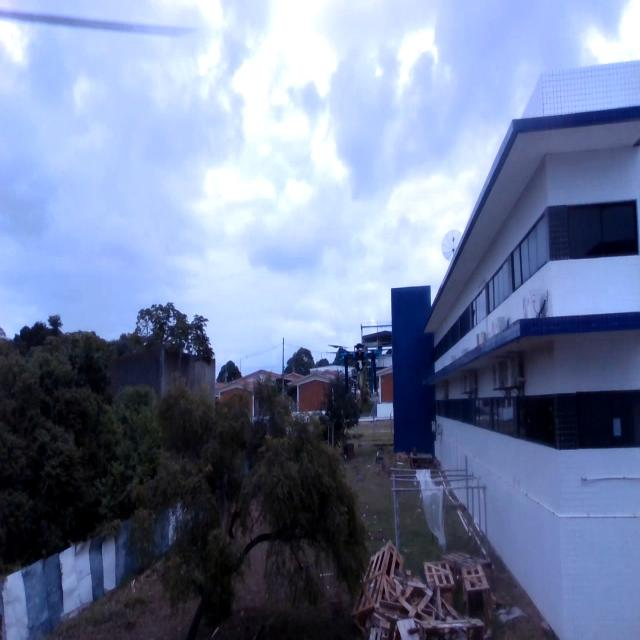-uav-: (322, 328, 398, 420)
